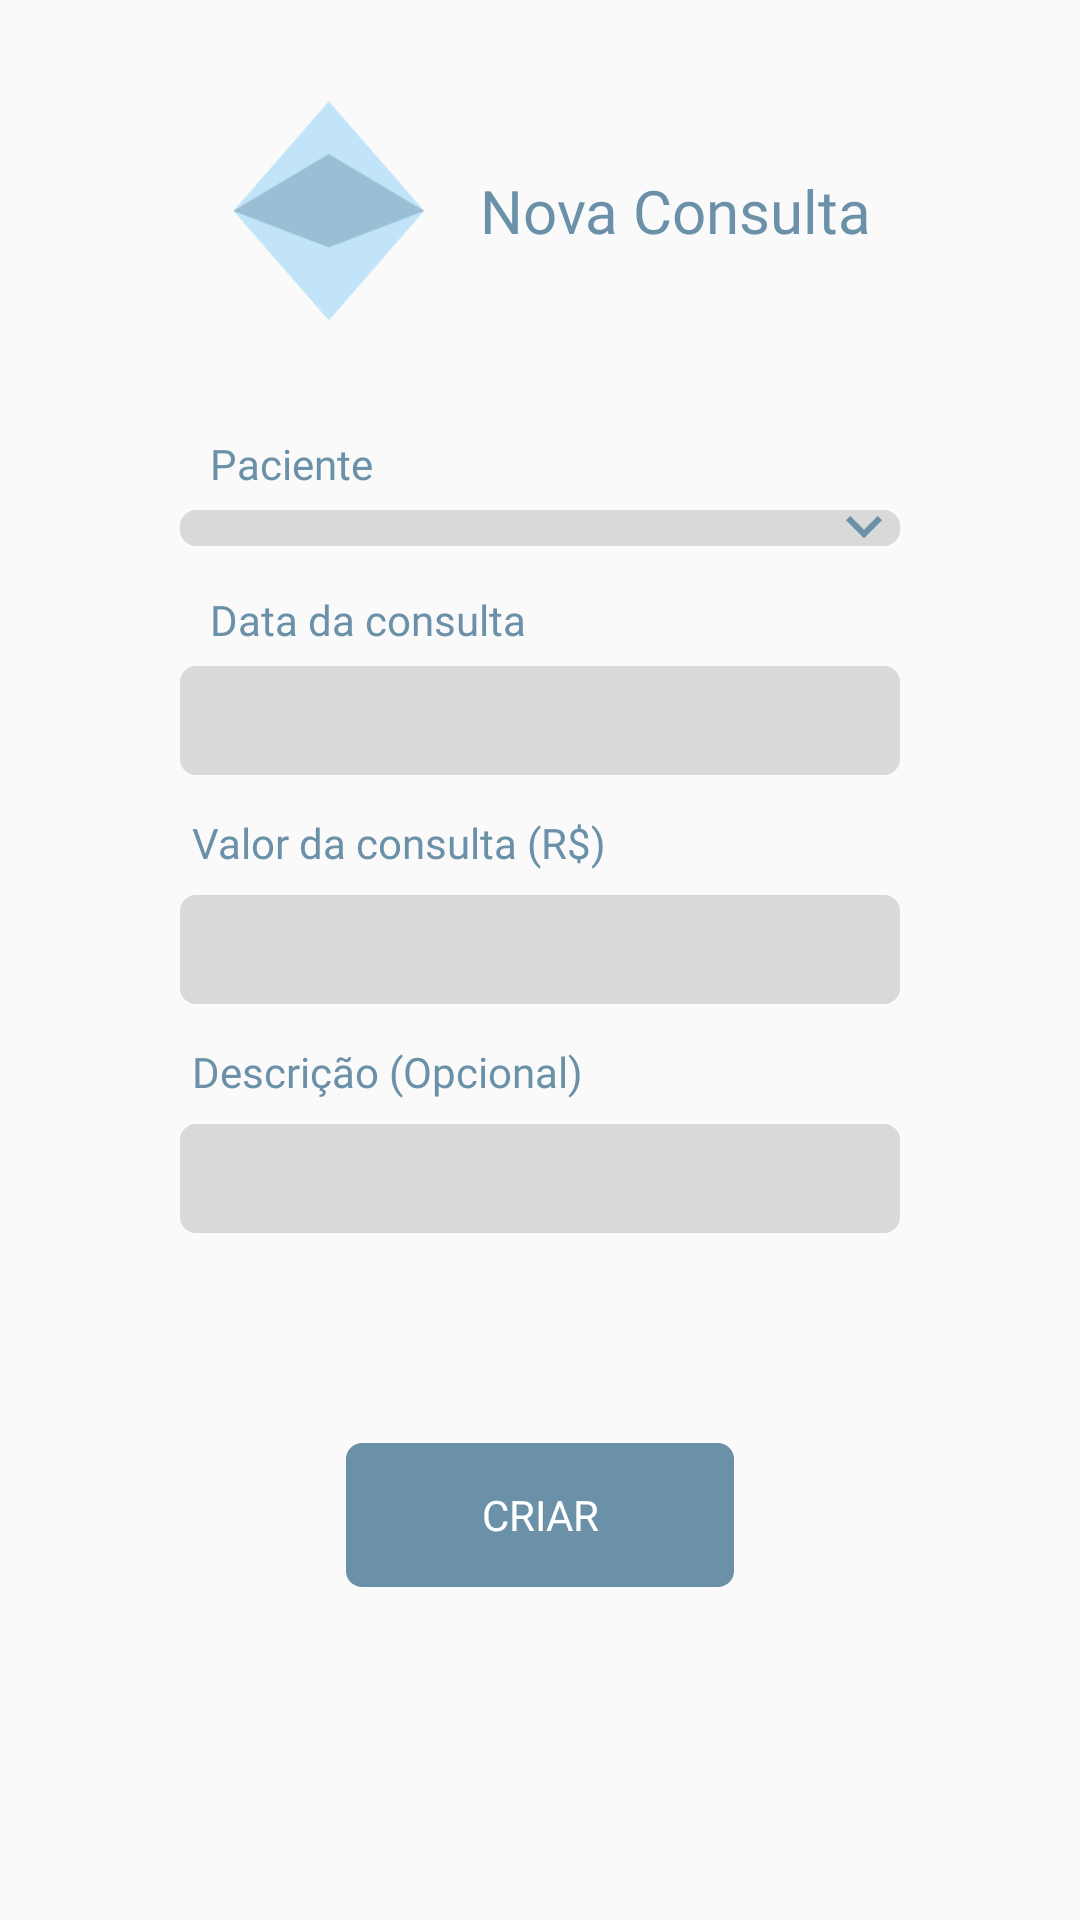

Screen size 1080px×1920px. Icon name, then its center in pixels as (x=x, y=y):
keyboard arrow down: (x=864, y=528)
